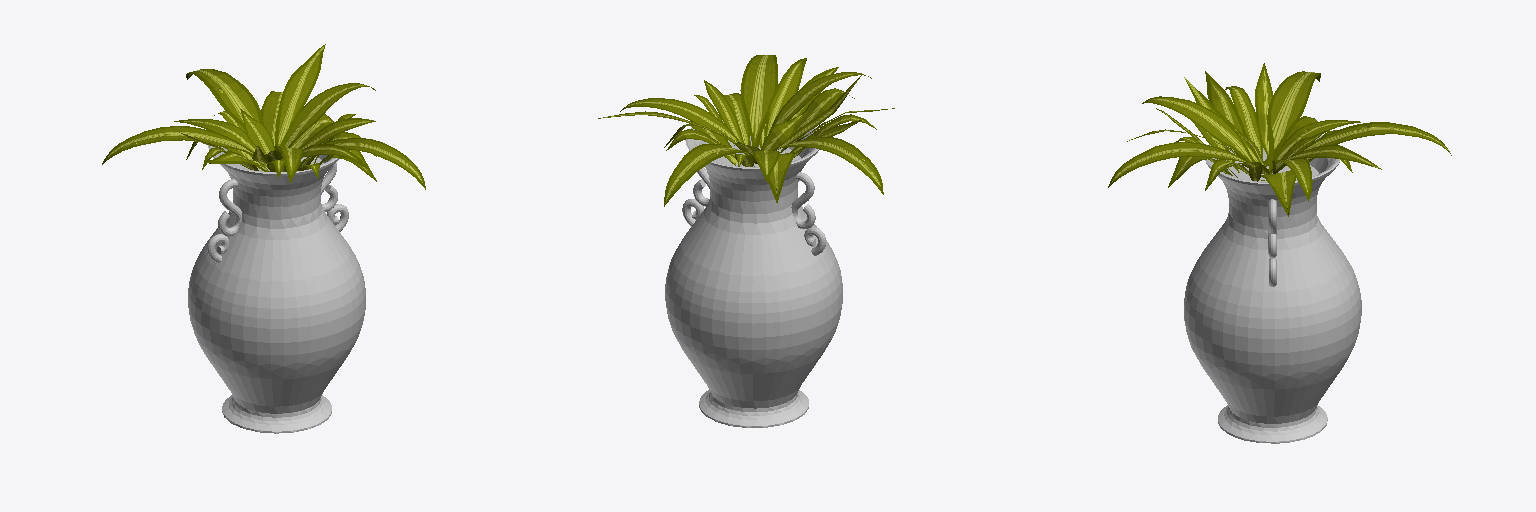
3 renders of one model, left to right at view 1: azimuth 30°, elevation 25°; view 2: azimuth 150°, elevation 25°; view 3: azimuth 270°, elevation 25°, orthographic.
Visible parts, largest first — view 1: pot_NurbsPath.001, leaves_Plane.011; view 2: pot_NurbsPath.001, leaves_Plane.011; view 3: pot_NurbsPath.001, leaves_Plane.011.
Boxes of the visible parts, box(x1,y1,x2,y2) form: pot_NurbsPath.001: box(188, 143, 365, 433); leaves_Plane.011: box(102, 44, 425, 189); pot_NurbsPath.001: box(665, 120, 842, 427); leaves_Plane.011: box(598, 55, 894, 206); pot_NurbsPath.001: box(1184, 135, 1361, 443); leaves_Plane.011: box(1108, 63, 1451, 216).
Bounding box in the file's own units: 28.98 × 32.36 × 31.99.
2 materials, 1 textured.